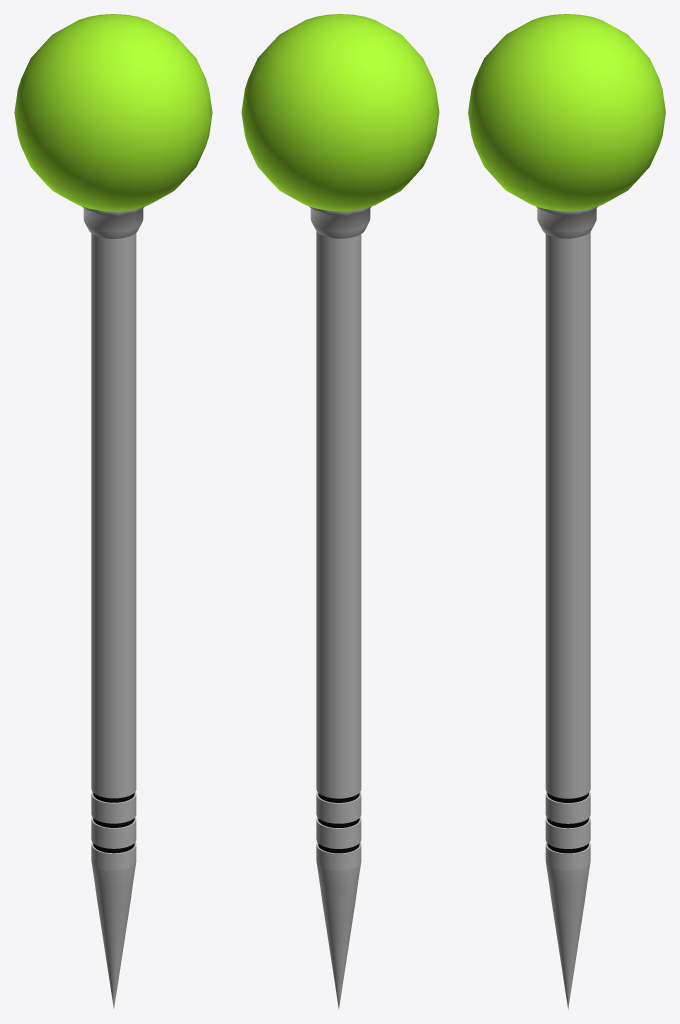
The model's file is GREENYELLOW.glb.
3 views of the same model, side by side, from view 1: azimuth 30°, elevation 25°; view 2: azimuth 150°, elevation 25°; view 3: azimuth 270°, elevation 25° (orthographic).
Visible parts, largest first — view 1: Needle, Sphere, Ball_Holder; view 2: Needle, Sphere, Ball_Holder; view 3: Needle, Sphere, Ball_Holder.
Part boxes in pixels (left/top/right/bottom): Needle: left=91, top=233, right=136, bottom=1008; Sphere: left=14, top=14, right=212, bottom=211; Ball_Holder: left=82, top=206, right=144, bottom=238; Needle: left=316, top=231, right=361, bottom=1009; Sphere: left=241, top=14, right=439, bottom=211; Ball_Holder: left=309, top=206, right=371, bottom=238; Needle: left=545, top=232, right=590, bottom=1009; Sphere: left=468, top=14, right=665, bottom=211; Ball_Holder: left=536, top=206, right=597, bottom=238.
Size of the model in its own units: 2.2 by 12.1 by 2.2.
